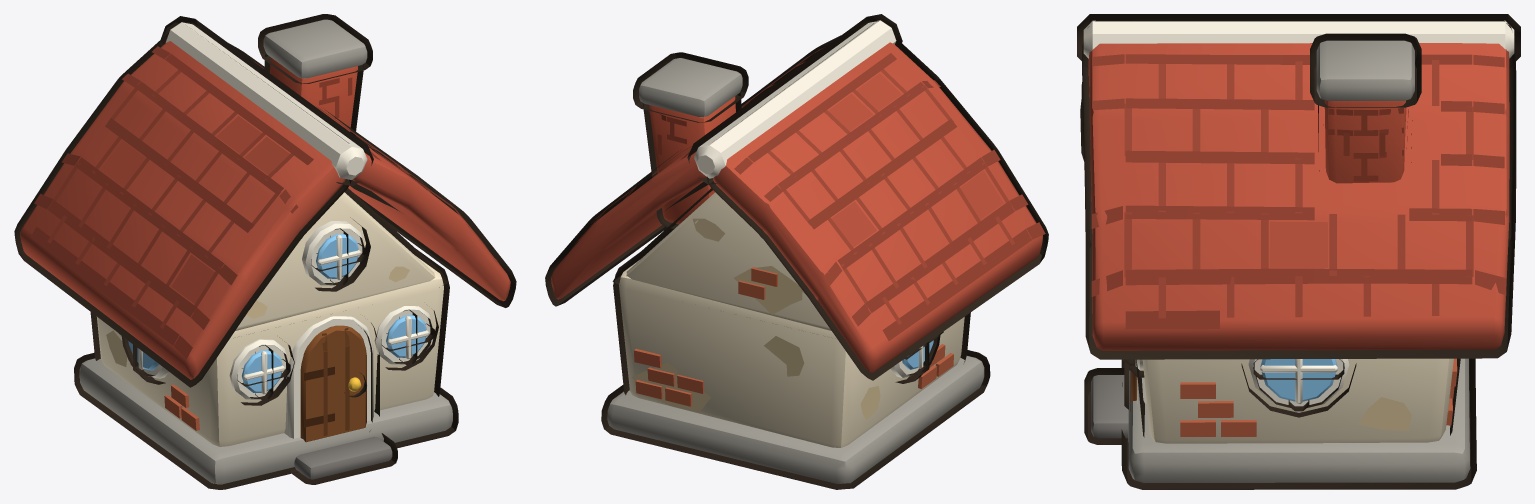
File: house-1.glb
The picture shows the model from 3 angles, left to right: view 1: azimuth 30°, elevation 25°; view 2: azimuth 150°, elevation 25°; view 3: azimuth 270°, elevation 25°; orthographic projection. The views are drawn at different scales.
Visible parts, largest first — view 1: house-1; view 2: house-1; view 3: house-1.
Part boxes in pixels (x1,y1,x2,y2): house-1: [14, 14, 516, 489]; house-1: [545, 14, 1048, 489]; house-1: [1077, 14, 1520, 489].
Bounding box in the file's own units: 3.17 × 3.09 × 2.99.
